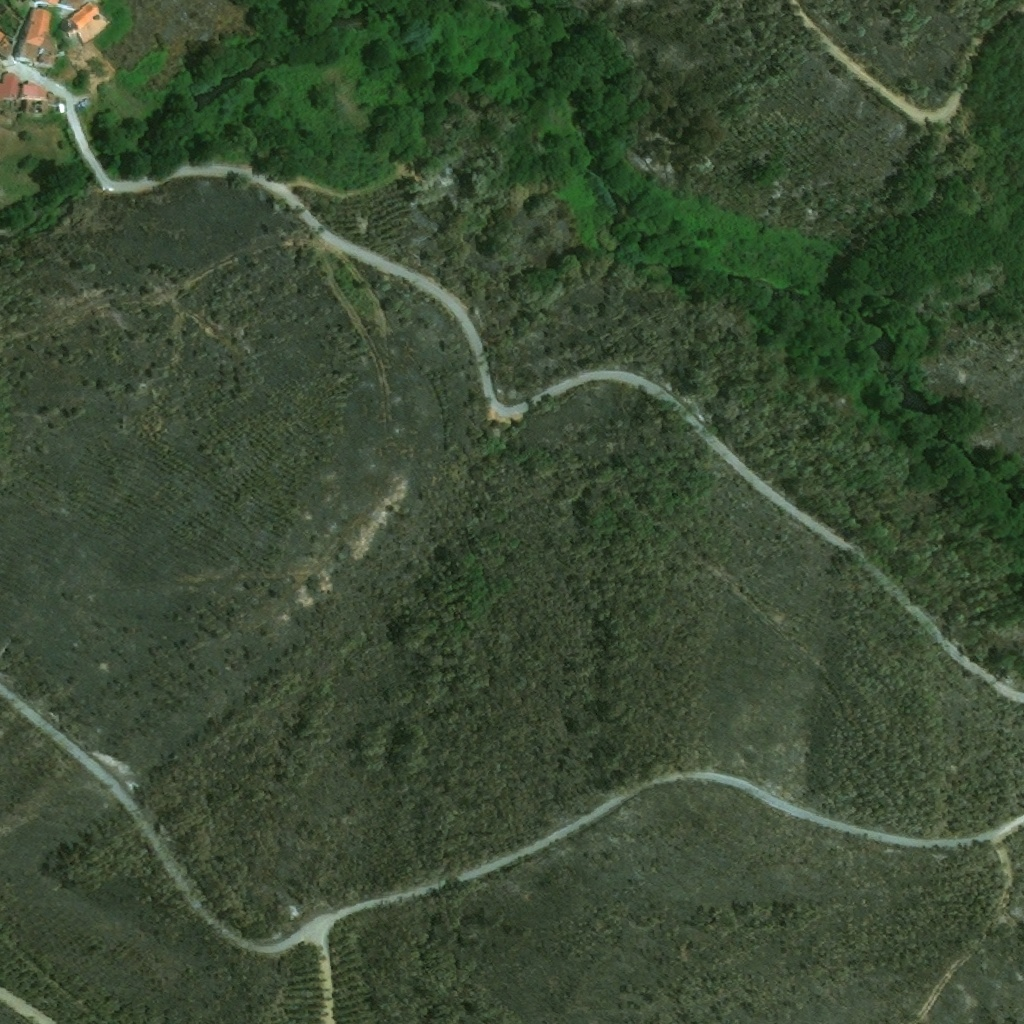0 no-damage: (13, 6, 62, 70), (69, 1, 110, 42), (21, 100, 48, 119), (0, 73, 17, 100), (21, 84, 47, 98)
4 un-classified: (0, 30, 13, 59), (33, 0, 60, 5), (65, 0, 85, 6)
